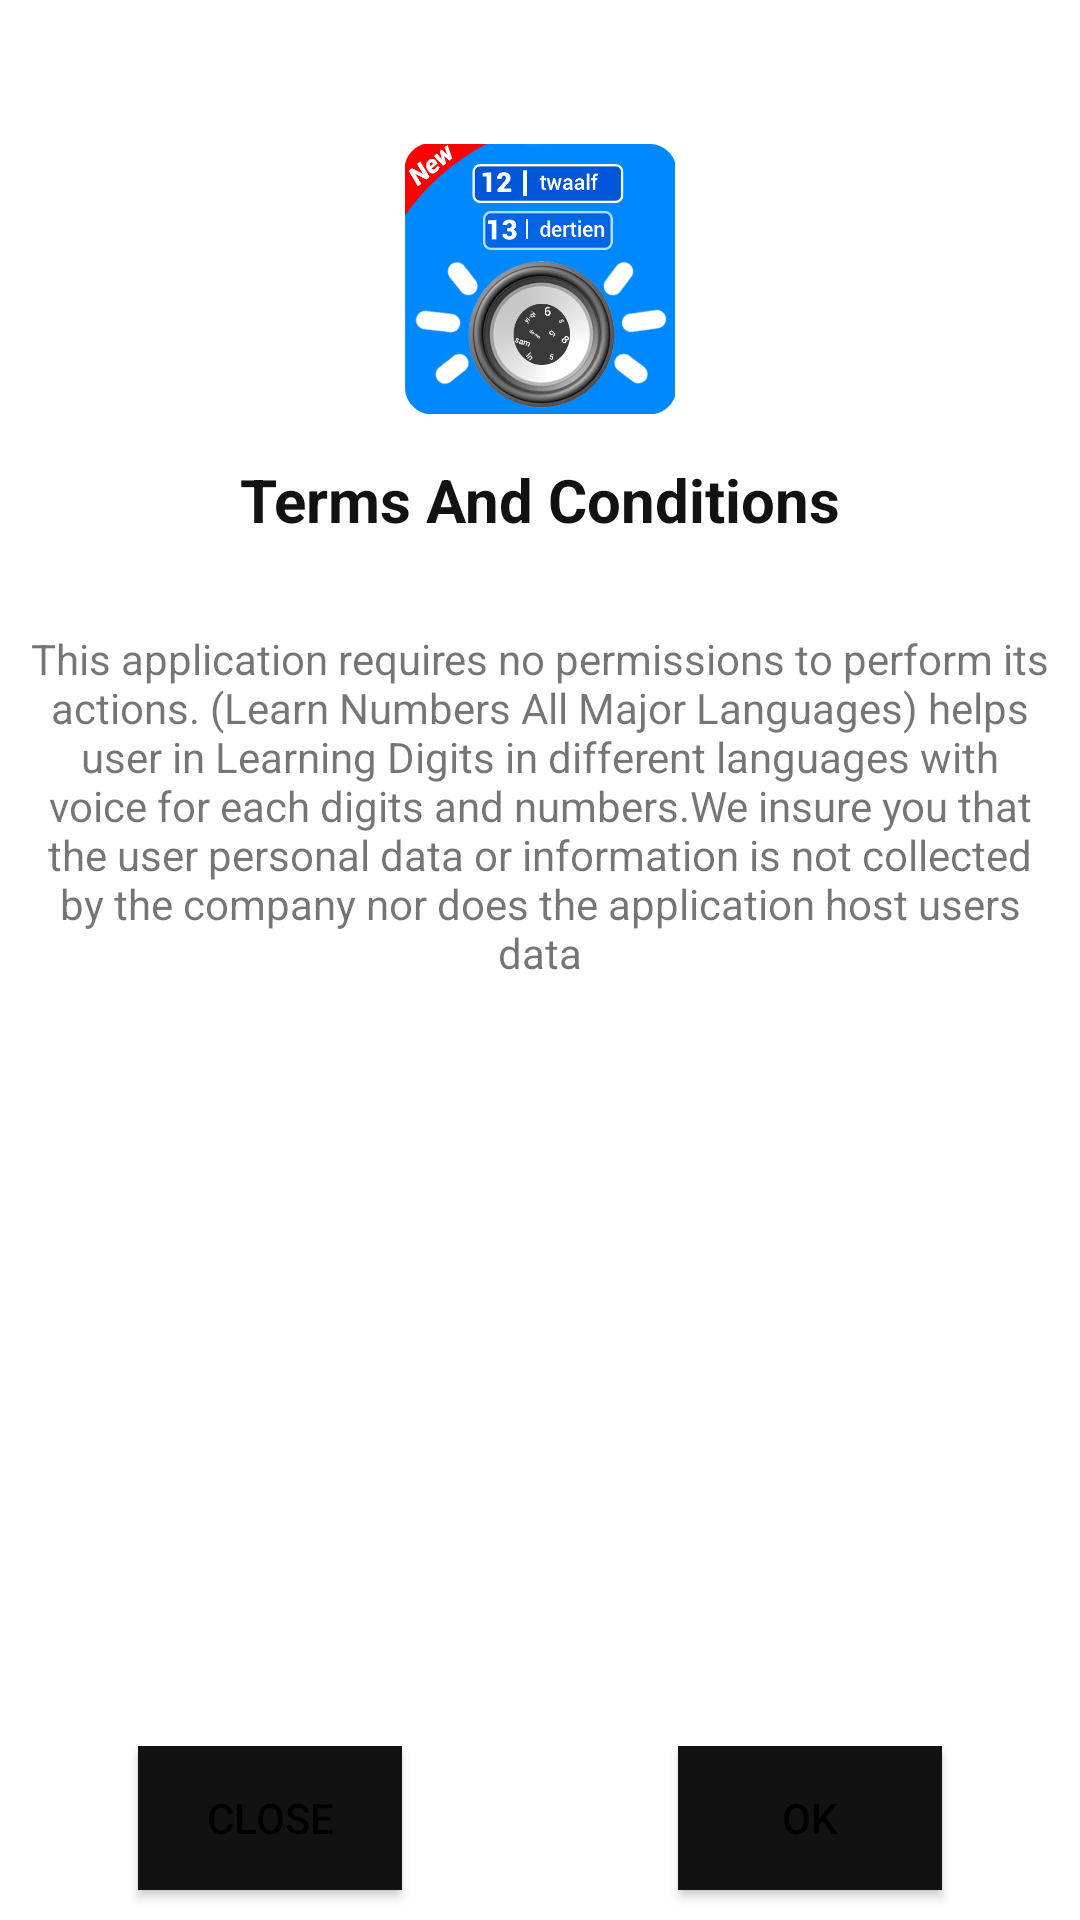

Named icons in this screenshot (1080x1920) and their centers, (x=x, y=y):
languages translator: (x=540, y=279)
